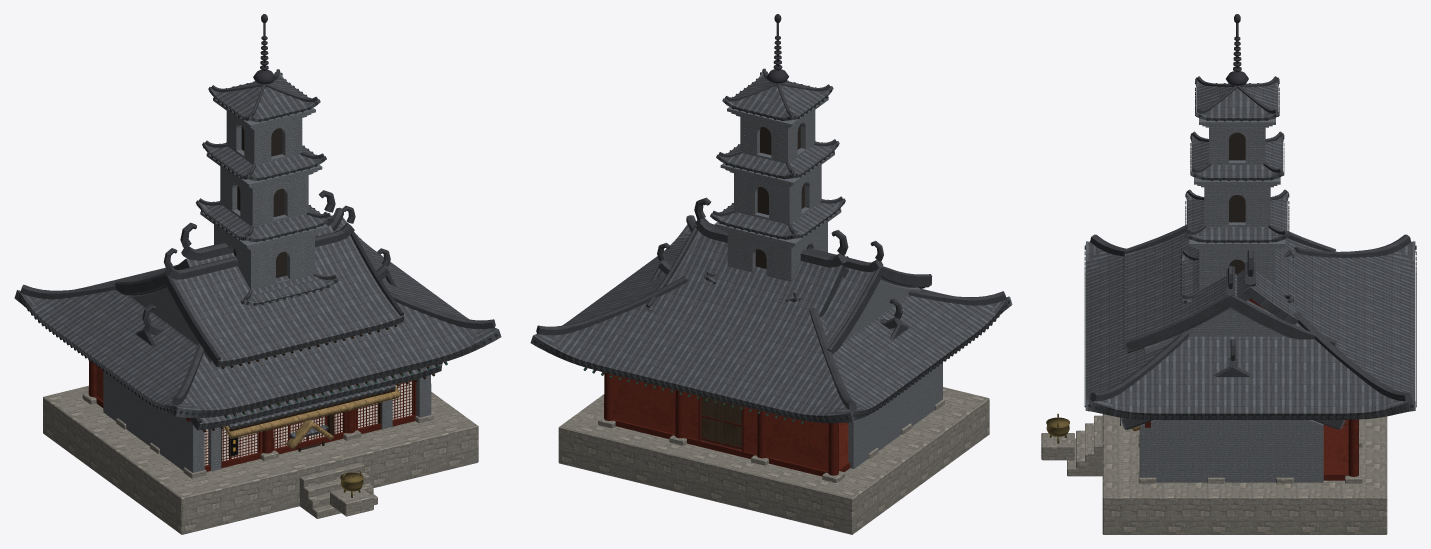
File: eastasia.glb
3 renders of one model, left to right at view 1: azimuth 30°, elevation 25°; view 2: azimuth 150°, elevation 25°; view 3: azimuth 270°, elevation 25°, orthographic. The views are drawn at different scales.
Visible parts, largest first — view 1: temple_ea_mesh, house_town_ea_mesh, pagoda_small_mesh, house_tile_ea_mesh, smithy_ea_mesh; view 2: temple_ea_mesh, pagoda_small_mesh, house_town_ea_mesh, house_tile_ea_mesh; view 3: temple_ea_mesh, pagoda_small_mesh, house_tile_ea_mesh, house_town_ea_mesh.
Boxes of the visible parts, <box> form: temple_ea_mesh: <box>14,190,501,534</box>; house_town_ea_mesh: <box>115,205,420,471</box>; pagoda_small_mesh: <box>196,14,339,305</box>; house_tile_ea_mesh: <box>103,248,442,472</box>; smithy_ea_mesh: <box>223,385,400,438</box>; temple_ea_mesh: <box>530,197,1012,534</box>; pagoda_small_mesh: <box>704,14,848,301</box>; house_town_ea_mesh: <box>646,201,932,353</box>; house_tile_ea_mesh: <box>651,242,942,468</box>; temple_ea_mesh: <box>1041,234,1416,534</box>; pagoda_small_mesh: <box>1180,14,1293,304</box>; house_tile_ea_mesh: <box>1120,339,1345,482</box>; house_town_ea_mesh: <box>1123,224,1337,353</box>.
Size of the model in its own units: 13.8 by 17.68 by 13.45.
Materials: 18 (12 with a texture image).
